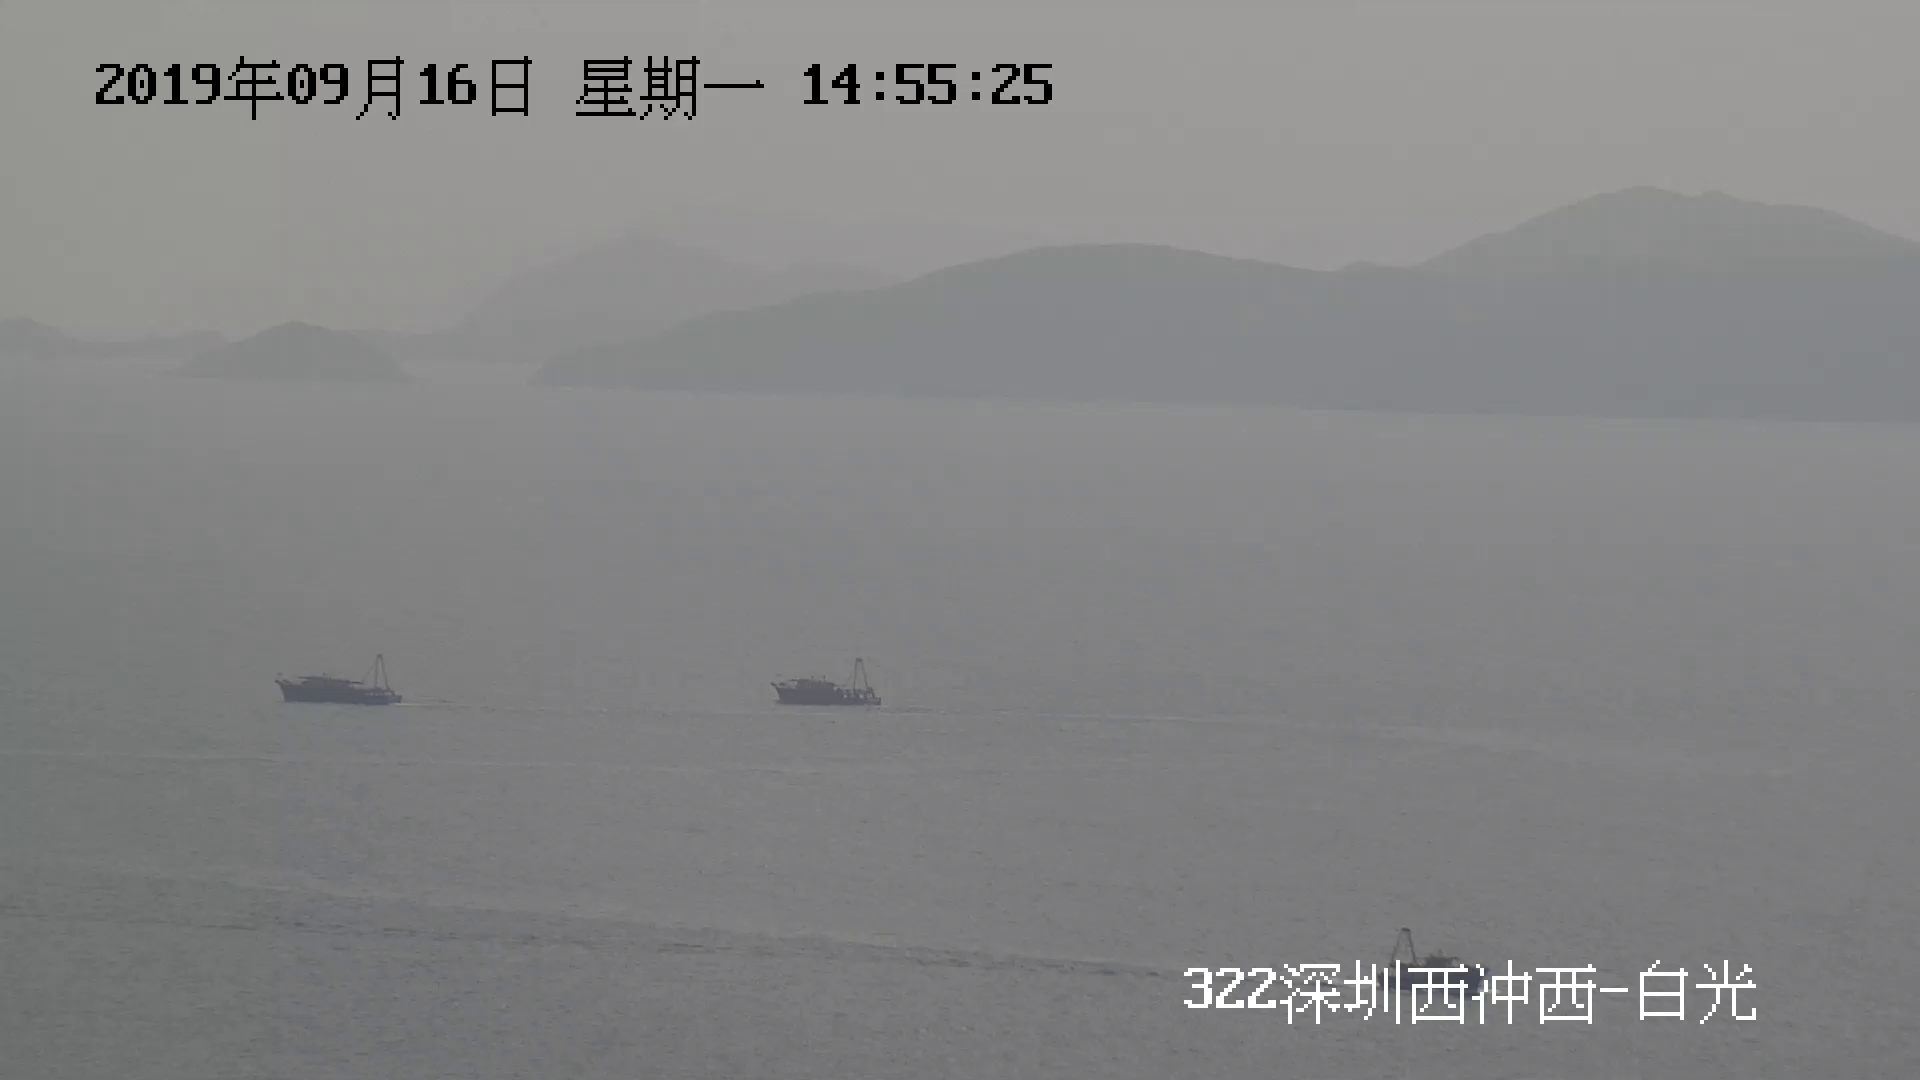ship: (276, 655, 404, 705), (769, 661, 881, 707)
